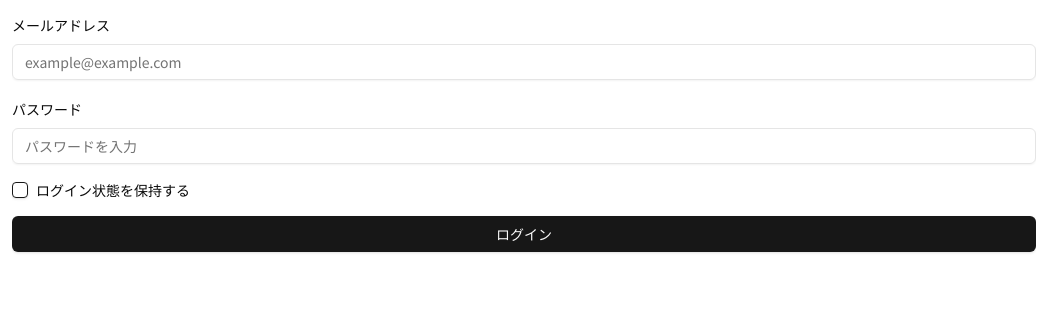
it: LoginForm › ログイン失敗 › 汎用認証エラー時にエラーメッセージが表示されること
Type "test@example.com" into the field labelled "メールアドレス" at coordinates (524, 62), box [12, 44, 1036, 80]
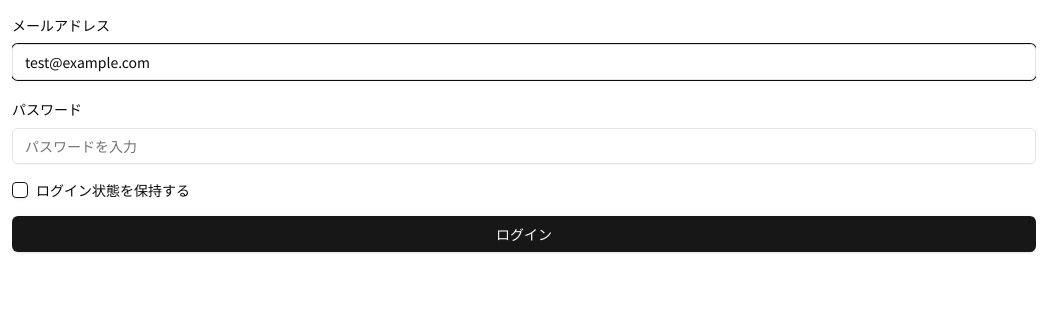
Type "password123" into the password field labelled "パスワード" at coordinates (524, 146), box [12, 128, 1036, 164]
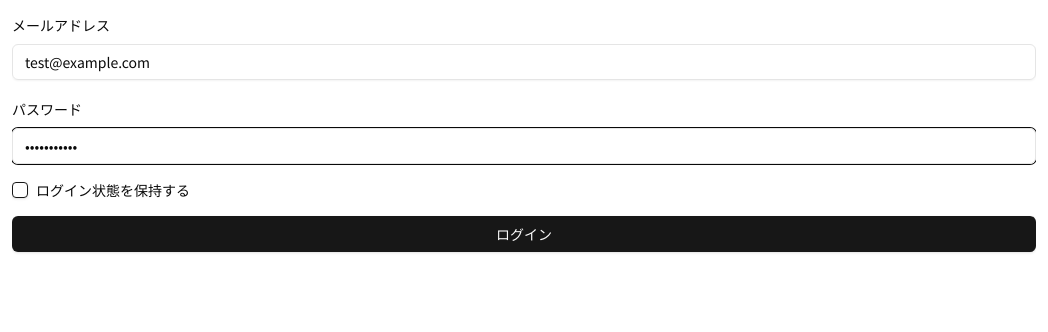
Click the button "ログイン" at coordinates (524, 234), box [12, 216, 1036, 252]
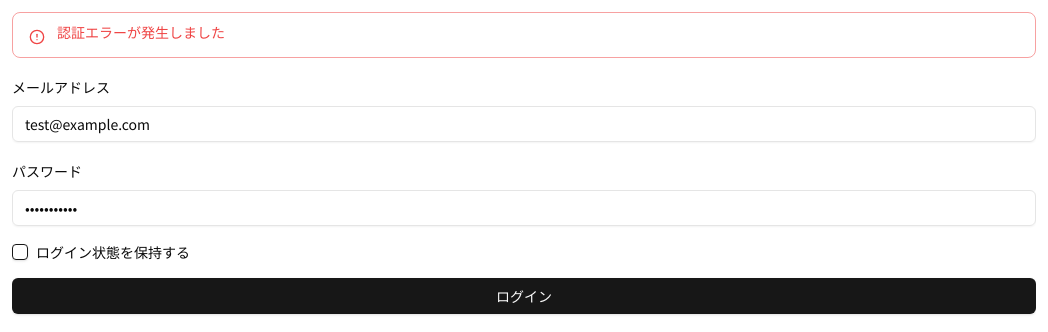
Result: the text "認証エラーが発生しました" is shown at [57, 22, 225, 42]
